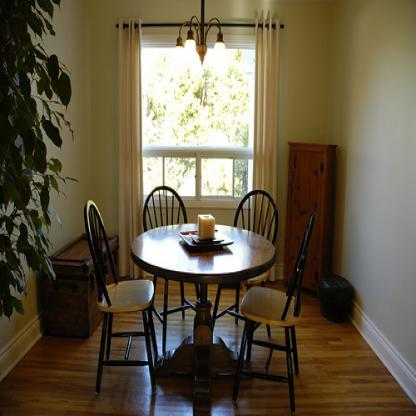chair: (231, 212, 317, 415), (84, 199, 160, 397), (212, 188, 280, 362), (142, 186, 200, 354)
diningtable: (130, 222, 276, 415)
pottedplant: (0, 0, 82, 326)
